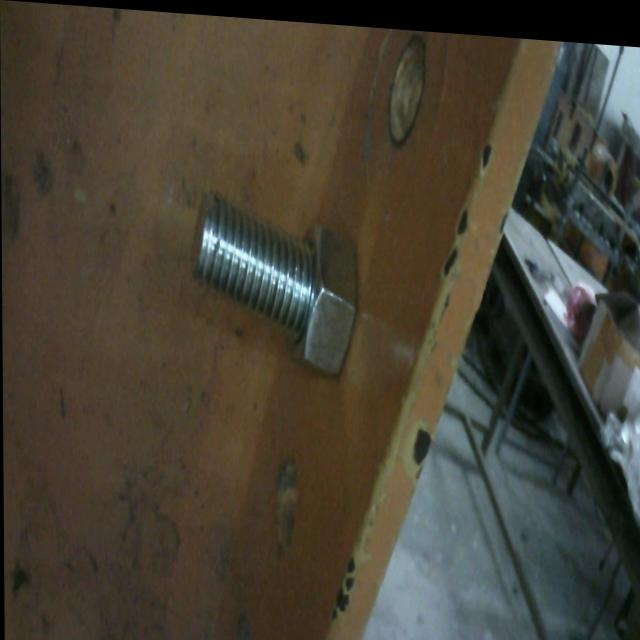Missing bolt: (386, 23, 429, 143), (271, 452, 301, 547)
Regular bolt: (191, 187, 360, 376)
